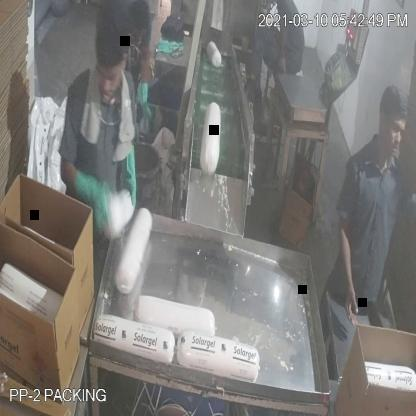glove: (120, 132, 150, 222)
no_glove: (337, 199, 363, 334)
